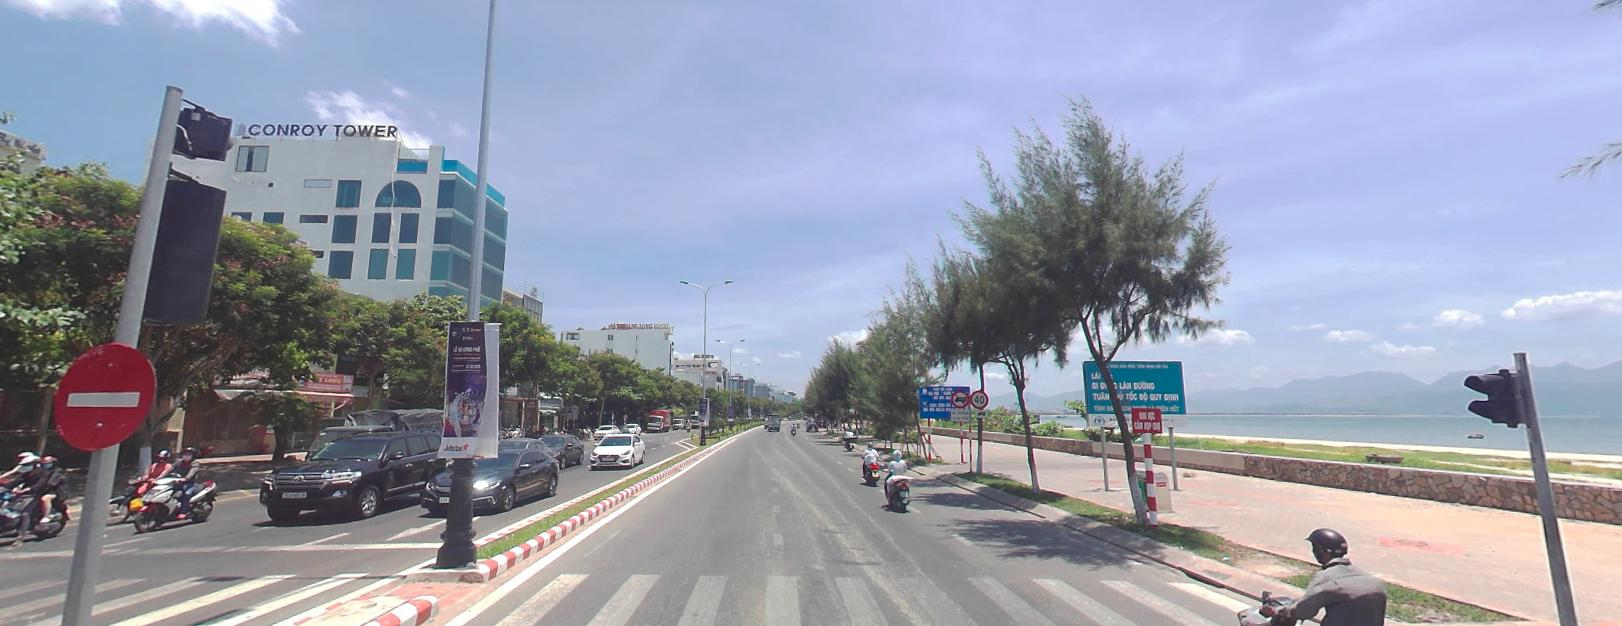Cam con lai: (951, 387, 966, 407)
Cam nguoc chieu: (54, 330, 164, 449)
Gioi han toc do: (970, 390, 991, 405)
